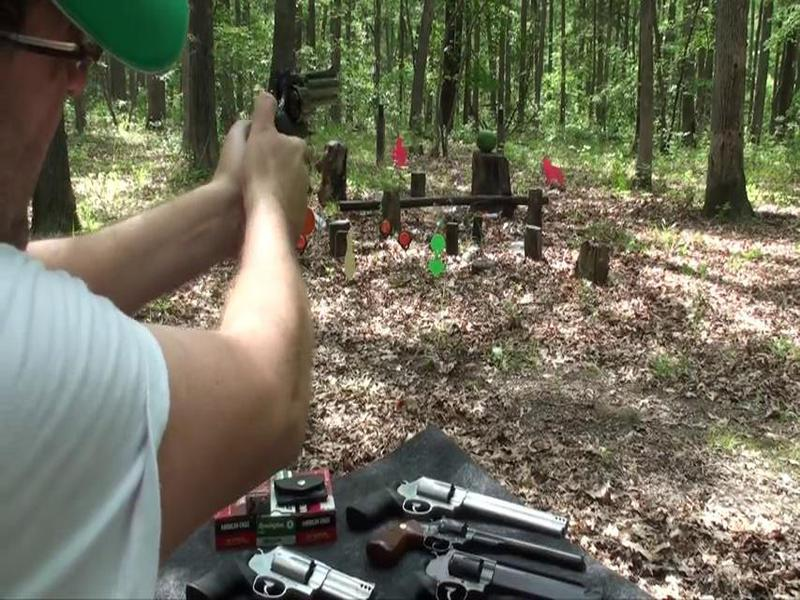Revolver: (254, 45, 354, 157)
